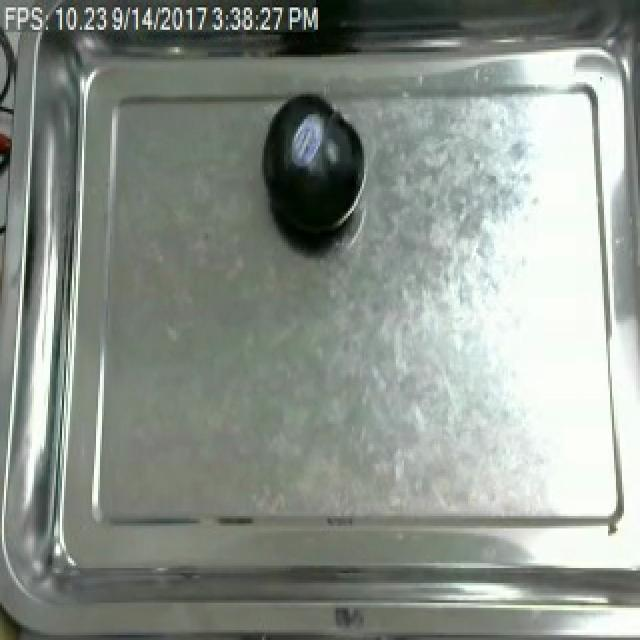Fruit: (256, 97, 370, 246)
